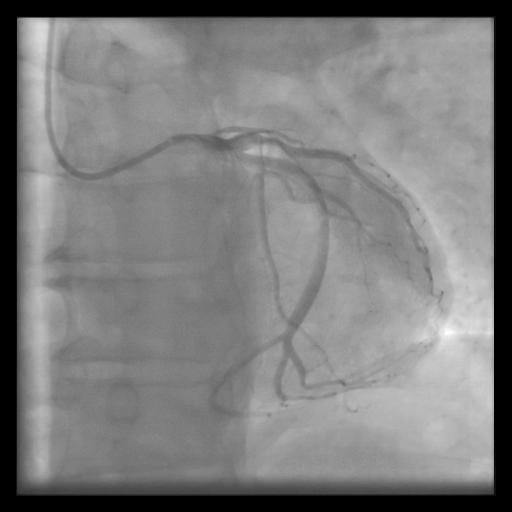Stenosis: (257, 141, 270, 175)
